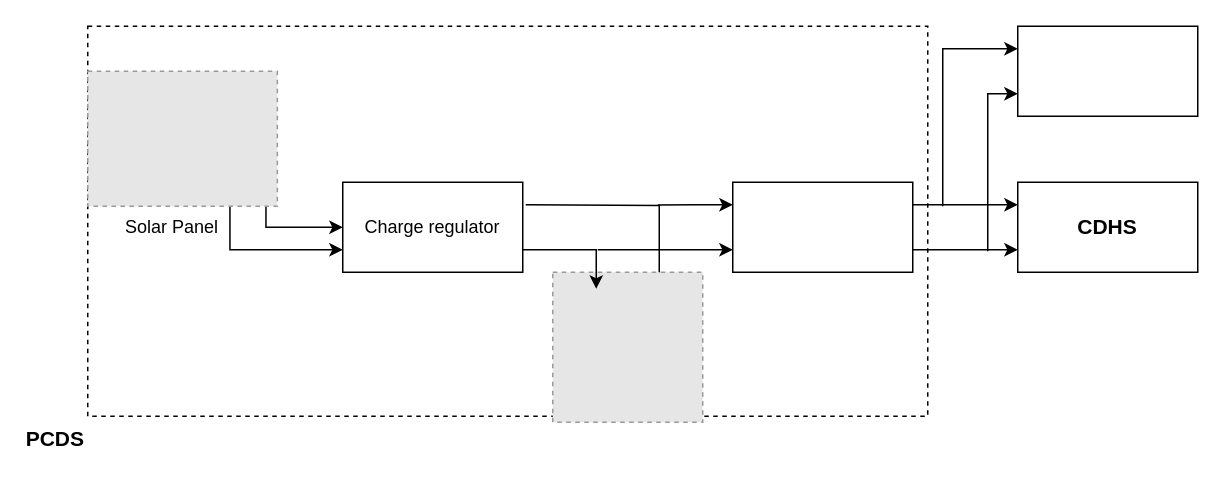
This 1224x479 diagram has some shape labels left out. Grey dashed boxes stand in for pictures. Each missing label, with the centre of its shape:
"NDS" belongs at [1107,70].
"Voltage Booster" belongs at [822,226].
